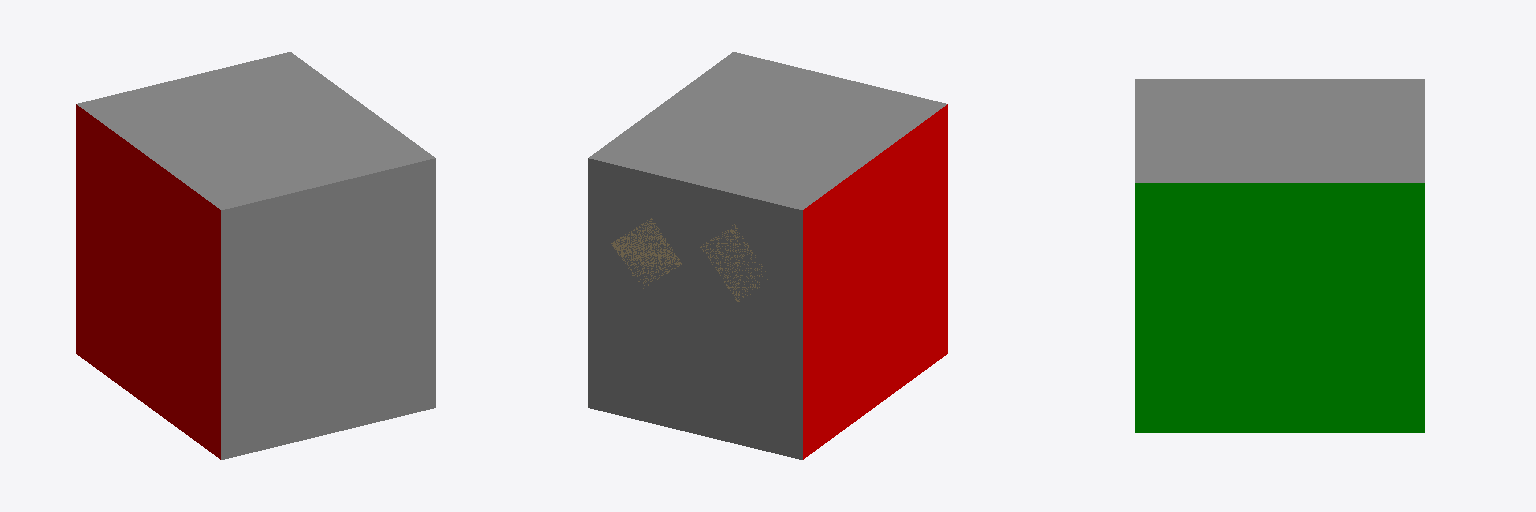
The model's file is CornellBox-teapot.obj.
3 renders of one model, left to right at view 1: azimuth 30°, elevation 25°; view 2: azimuth 150°, elevation 25°; view 3: azimuth 270°, elevation 25°, orthographic.
Parts seen in each view (by area): view 1: Box001; view 2: Box001, Box002, Box003; view 3: Box001.
Part boxes in pixels (bbox=[...]): Box001: bbox=[76, 52, 435, 459]; Box001: bbox=[588, 52, 947, 459]; Box002: bbox=[611, 218, 681, 288]; Box003: bbox=[700, 224, 767, 301]; Box001: bbox=[1135, 79, 1424, 432].
Bounding box in the file's own units: 11.07 × 12.32 × 13.